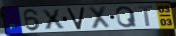6: (22, 8, 42, 33)
Q: (115, 5, 139, 29)
T: (137, 5, 155, 27)
V: (66, 6, 86, 30)
X: (39, 8, 66, 31), (88, 6, 112, 31)
